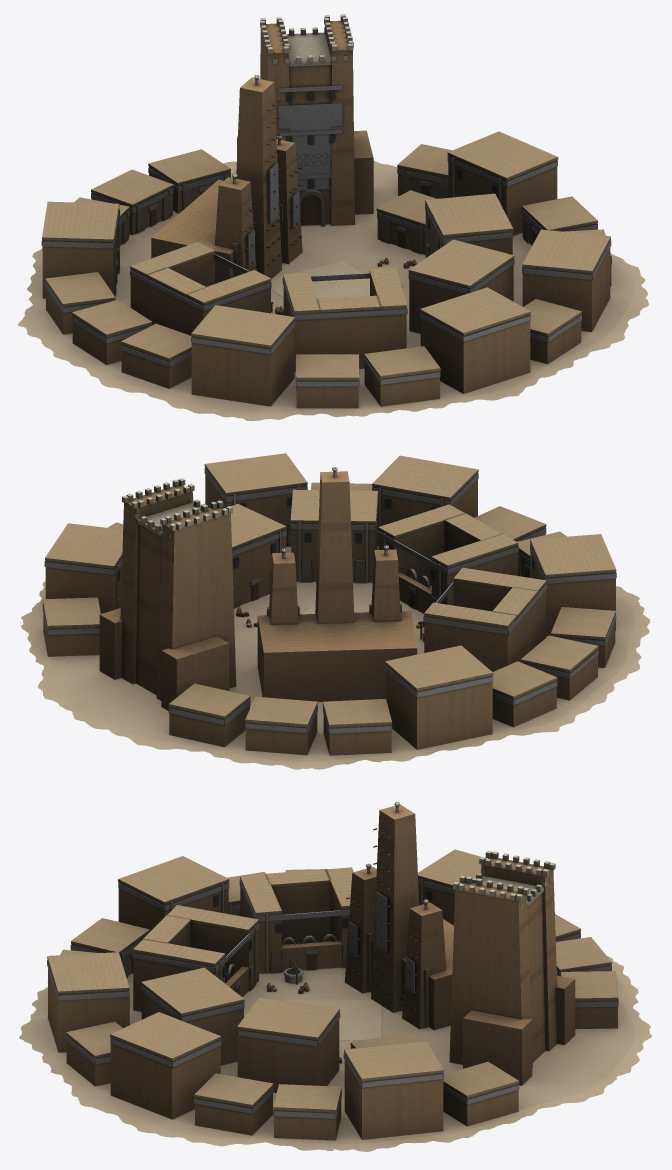
File: kingdoms-town-big-b-maghreb.glb
3 views of the same model, one above another, from view 1: azimuth 30°, elevation 25°; view 2: azimuth 150°, elevation 25°; view 3: azimuth 270°, elevation 25° (orthographic).
Visible parts, largest first — view 1: LOD0; view 2: LOD0; view 3: LOD0.
Part boxes in pixels (left/top/right/bottom): LOD0: left=17, top=14, right=648, bottom=421; LOD0: left=21, top=453, right=649, bottom=769; LOD0: left=19, top=802, right=651, bottom=1151.
Size of what is drawn, in the model's own units: 7.92 by 2.76 by 7.98.
3 materials, 3 textured.
